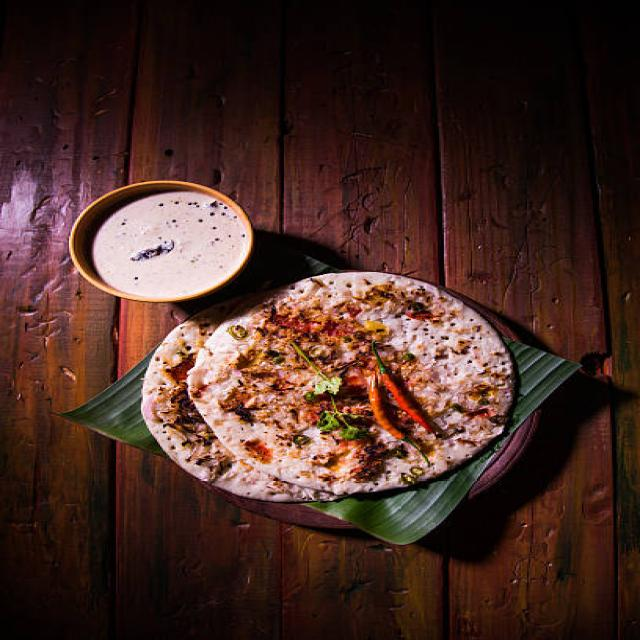DOSA: (138, 271, 514, 501)
WHITE CHUTNEY: (93, 193, 249, 298)
